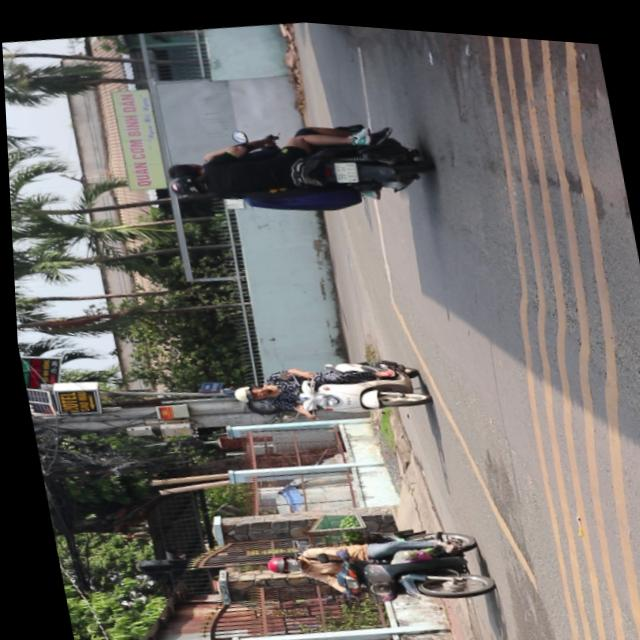helmet: (258, 548, 297, 574), (164, 170, 203, 196), (227, 379, 266, 403)
licenseplate: (153, 97, 436, 237), (252, 503, 492, 624), (220, 335, 431, 433)
motorcyclist: (163, 157, 201, 180)
nohelmet: (332, 155, 357, 178)
